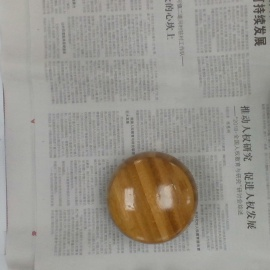chess: (103, 151, 199, 242)
